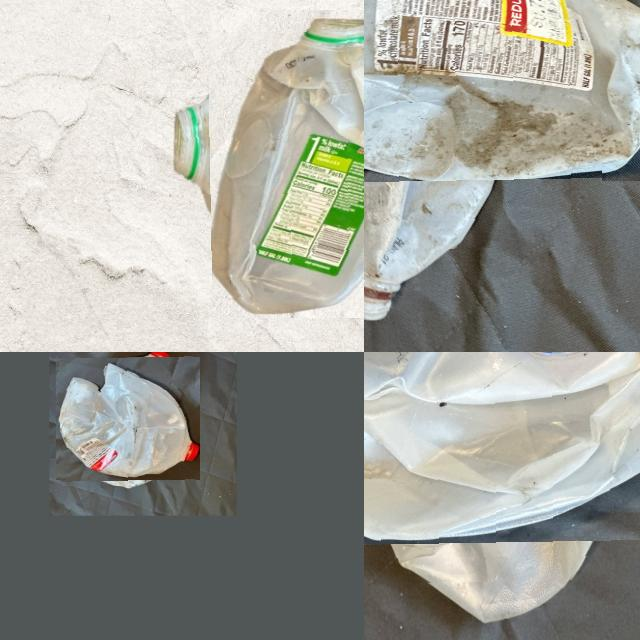milk-jug: (364, 352, 640, 583), (364, 0, 600, 250), (186, 31, 364, 297), (60, 352, 195, 485)
